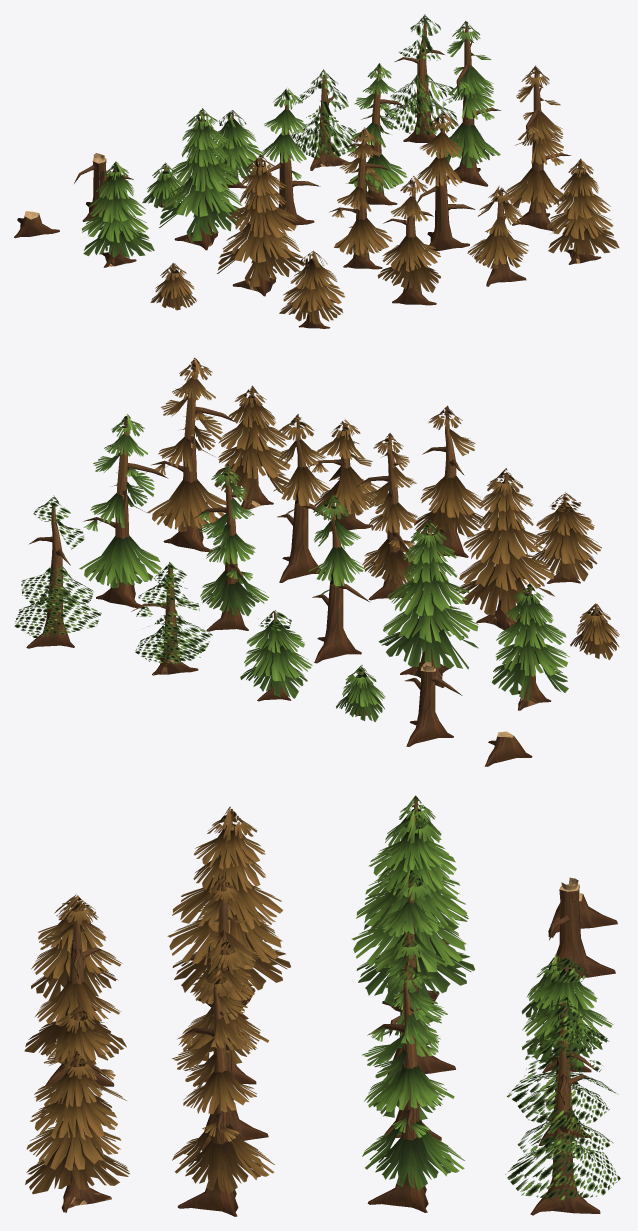
The picture shows the model from 3 angles, top to bottom: view 1: azimuth 30°, elevation 25°; view 2: azimuth 150°, elevation 25°; view 3: azimuth 270°, elevation 25°; orthographic projection. The views are drawn at different scales.
Parts seen in each view (by area): view 1: mesh_22_82.nr, mesh_23_96.nr, mesh_21_67.nr, mesh_23_86.nr, mesh_21_63.nr, mesh_23_98.nr, mesh_21_69.nr, mesh_23_90.nr, mesh_23_94.nr, mesh_21_80.nr, mesh_23_84.nr, mesh_21_65.nr (+8 smaller); view 2: mesh_22_82.nr, mesh_21_67.nr, mesh_23_96.nr, mesh_21_69.nr, mesh_21_63.nr, mesh_23_98.nr, mesh_23_86.nr, mesh_21_65.nr, mesh_21_80.nr, mesh_23_94.nr, mesh_21_75.nr, mesh_23_90.nr (+8 smaller); view 3: mesh_22_82.nr, mesh_23_96.nr, mesh_21_67.nr, mesh_21_69.nr, mesh_23_98.nr, mesh_23_86.nr, mesh_21_80.nr, mesh_21_77.nr, mesh_23_90.nr, mesh_21_75.nr, mesh_23_84.nr, mesh_23_94.nr (+6 smaller).
Boxes of the visible parts, x1,y1,x2,y2 form: mesh_22_82.nr: (14, 21, 601, 328); mesh_23_96.nr: (217, 154, 304, 286); mesh_21_67.nr: (159, 110, 246, 241); mesh_23_86.nr: (546, 159, 619, 255); mesh_21_63.nr: (81, 161, 154, 257); mesh_23_98.nr: (504, 66, 566, 213); mesh_21_69.nr: (436, 21, 500, 168); mesh_23_90.nr: (377, 176, 440, 292); mesh_23_94.nr: (331, 128, 392, 256); mesh_21_80.nr: (384, 14, 458, 134); mesh_23_84.nr: (279, 259, 344, 324); mesh_21_65.nr: (347, 63, 407, 192); mesh_22_82.nr: (26, 360, 605, 766); mesh_21_67.nr: (378, 521, 478, 669); mesh_23_96.nr: (456, 469, 554, 617); mesh_21_69.nr: (79, 414, 161, 588); mesh_21_63.nr: (492, 583, 569, 701); mesh_23_98.nr: (147, 358, 227, 531); mesh_23_86.nr: (214, 387, 292, 503); mesh_21_65.nr: (198, 466, 268, 615); mesh_21_80.nr: (14, 499, 101, 637); mesh_23_94.nr: (360, 433, 422, 584); mesh_21_75.nr: (240, 620, 312, 698); mesh_23_90.nr: (414, 405, 485, 540); mesh_22_82.nr: (45, 800, 617, 1216); mesh_23_96.nr: (167, 807, 290, 1005); mesh_21_67.nr: (352, 810, 475, 1005); mesh_21_69.nr: (362, 961, 464, 1190); mesh_23_98.nr: (172, 965, 274, 1194); mesh_23_86.nr: (25, 1052, 129, 1194); mesh_21_80.nr: (505, 1021, 620, 1200); mesh_21_77.nr: (507, 997, 618, 1124); mesh_23_90.nr: (24, 894, 126, 1064); mesh_21_75.nr: (522, 969, 613, 1066); mesh_23_84.nr: (31, 909, 122, 1005); mesh_23_94.nr: (178, 875, 268, 1064).
Size of the model in its own units: 37.78 by 13.01 by 30.24.
Materials: 4 (4 with a texture image).
